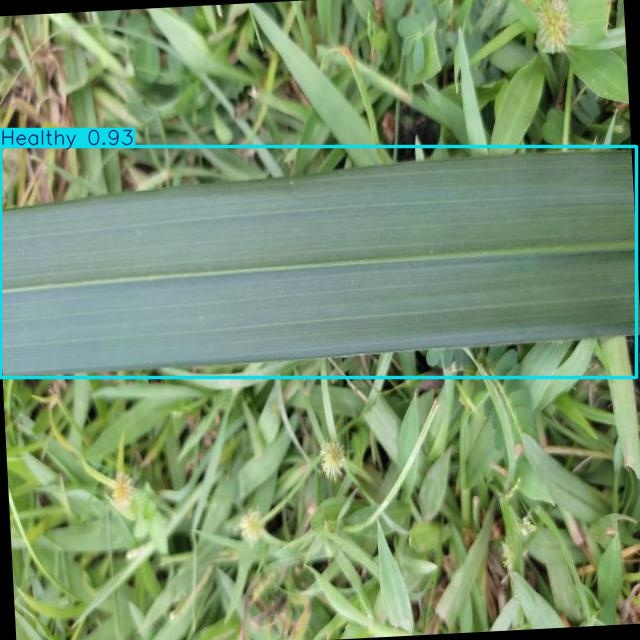Healthy: (1, 147, 636, 378)
